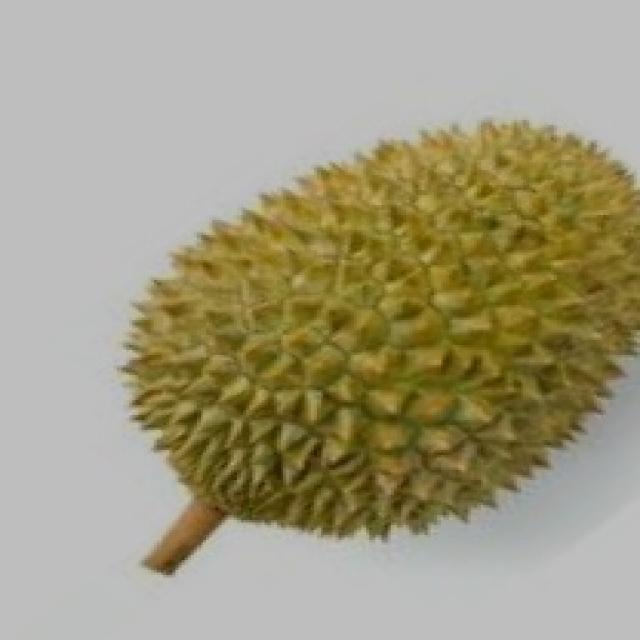fruit: (252, 182, 640, 600), (74, 228, 443, 592)
